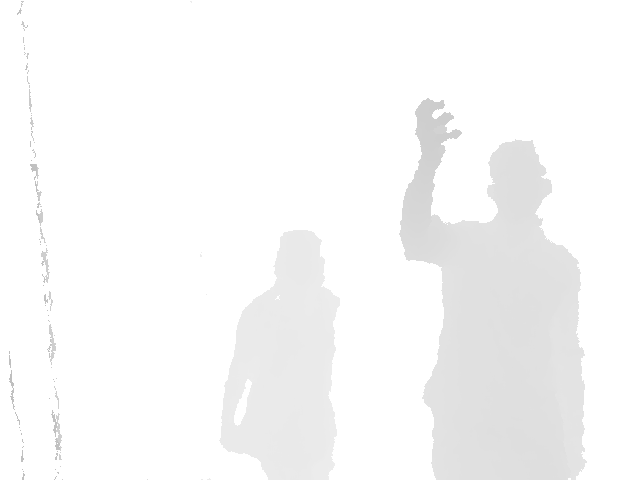hand: (413, 98, 463, 159)
head: (486, 139, 554, 218), (274, 229, 325, 292)
person: (398, 98, 588, 480), (219, 230, 342, 480)
